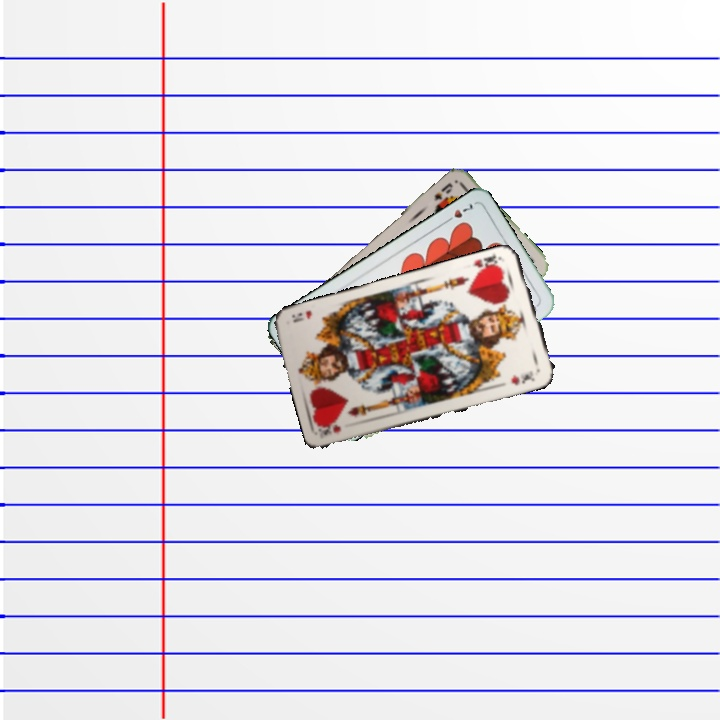H7: (440, 198, 475, 226)
HK: (469, 250, 507, 276), (318, 421, 344, 438)
SO: (430, 178, 455, 204)
